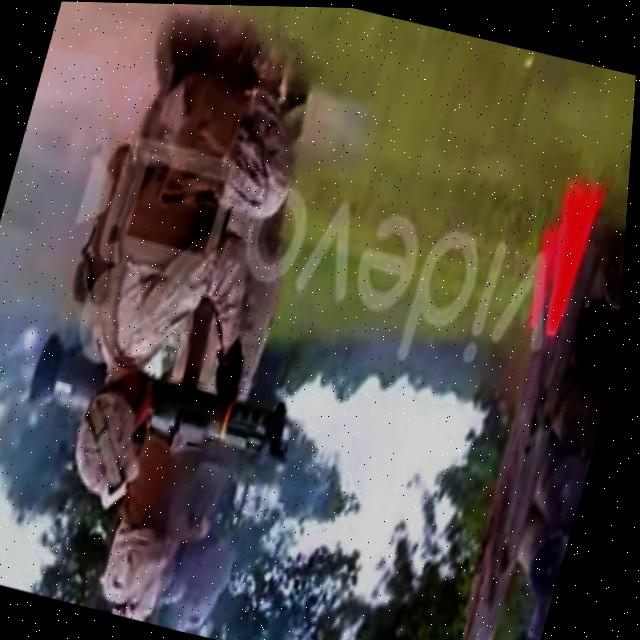rocket: (27, 331, 307, 463)
